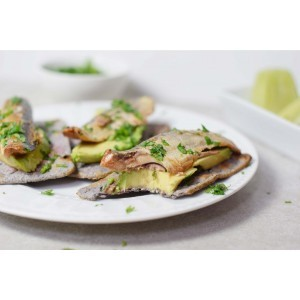sardine_brain food: (8, 94, 225, 200)
